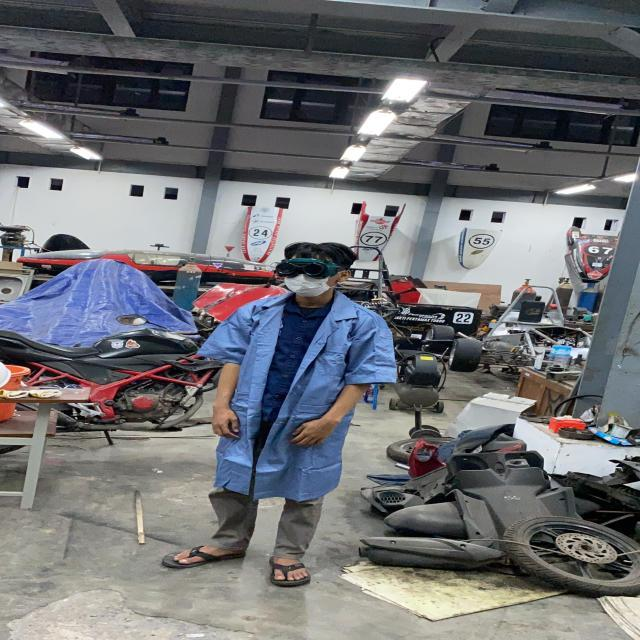glasses: (268, 255, 345, 279)
